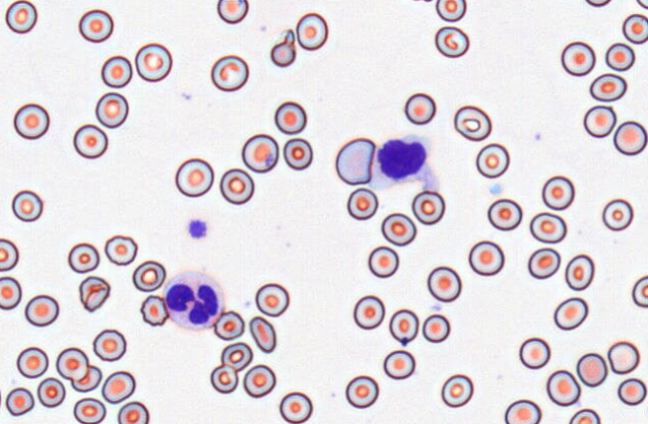GRAN: (164, 271, 227, 333)
MONO: (371, 135, 431, 187)
PLT: (187, 220, 210, 239), (489, 181, 503, 196)
RBC: (175, 157, 214, 197), (134, 42, 172, 82), (241, 133, 278, 172), (210, 54, 248, 91), (453, 105, 491, 141), (13, 103, 49, 139), (468, 240, 504, 276), (219, 168, 254, 204), (73, 123, 108, 159), (427, 265, 461, 302), (546, 369, 580, 406), (295, 12, 328, 50), (560, 41, 595, 76), (381, 212, 416, 246), (613, 120, 647, 155), (411, 190, 445, 225), (475, 143, 509, 178), (255, 282, 289, 317), (95, 92, 128, 128), (78, 275, 110, 312), (529, 211, 566, 243), (55, 347, 89, 381), (101, 370, 135, 404), (78, 9, 113, 42), (541, 175, 574, 210), (553, 297, 588, 330), (92, 328, 126, 361), (243, 364, 276, 398), (24, 294, 59, 326), (487, 198, 522, 230), (583, 104, 616, 137), (345, 375, 378, 408), (353, 295, 385, 329), (132, 260, 166, 292), (607, 340, 639, 374), (434, 26, 469, 57), (576, 352, 607, 387), (388, 308, 418, 344), (564, 254, 594, 290), (589, 73, 626, 102), (248, 315, 276, 353), (367, 245, 399, 278), (11, 189, 43, 222), (527, 247, 560, 279), (274, 101, 306, 134), (5, 0, 37, 33), (279, 391, 312, 423), (441, 374, 473, 407), (16, 346, 48, 378), (404, 92, 435, 125), (347, 187, 378, 220), (104, 234, 137, 265), (101, 55, 132, 88), (602, 198, 633, 231), (67, 242, 99, 273), (519, 337, 550, 369), (220, 341, 252, 371), (383, 349, 415, 379), (283, 137, 312, 170), (213, 310, 244, 340), (140, 294, 169, 326), (36, 377, 65, 408), (70, 364, 102, 392), (504, 399, 541, 423), (605, 42, 635, 71), (5, 386, 34, 416), (73, 397, 106, 423), (210, 363, 238, 393), (422, 313, 450, 343), (617, 377, 646, 405), (622, 13, 648, 44), (0, 276, 22, 310), (217, 0, 248, 23), (117, 401, 149, 423), (435, 0, 466, 22), (0, 238, 18, 271), (568, 408, 600, 423), (632, 275, 647, 307), (585, 0, 612, 7), (636, 0, 648, 9), (643, 403, 648, 423), (409, 0, 434, 2)
Schistocyte: (335, 138, 376, 186), (269, 30, 296, 68)
